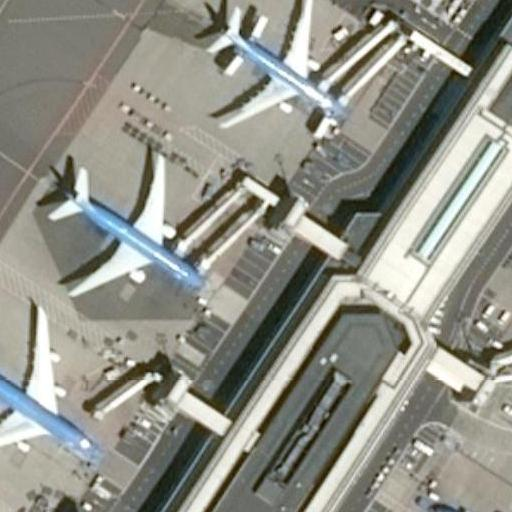Aircraft: (40, 144, 208, 296), (206, 0, 346, 129), (0, 309, 106, 461), (426, 497, 512, 512), (0, 493, 13, 512)
